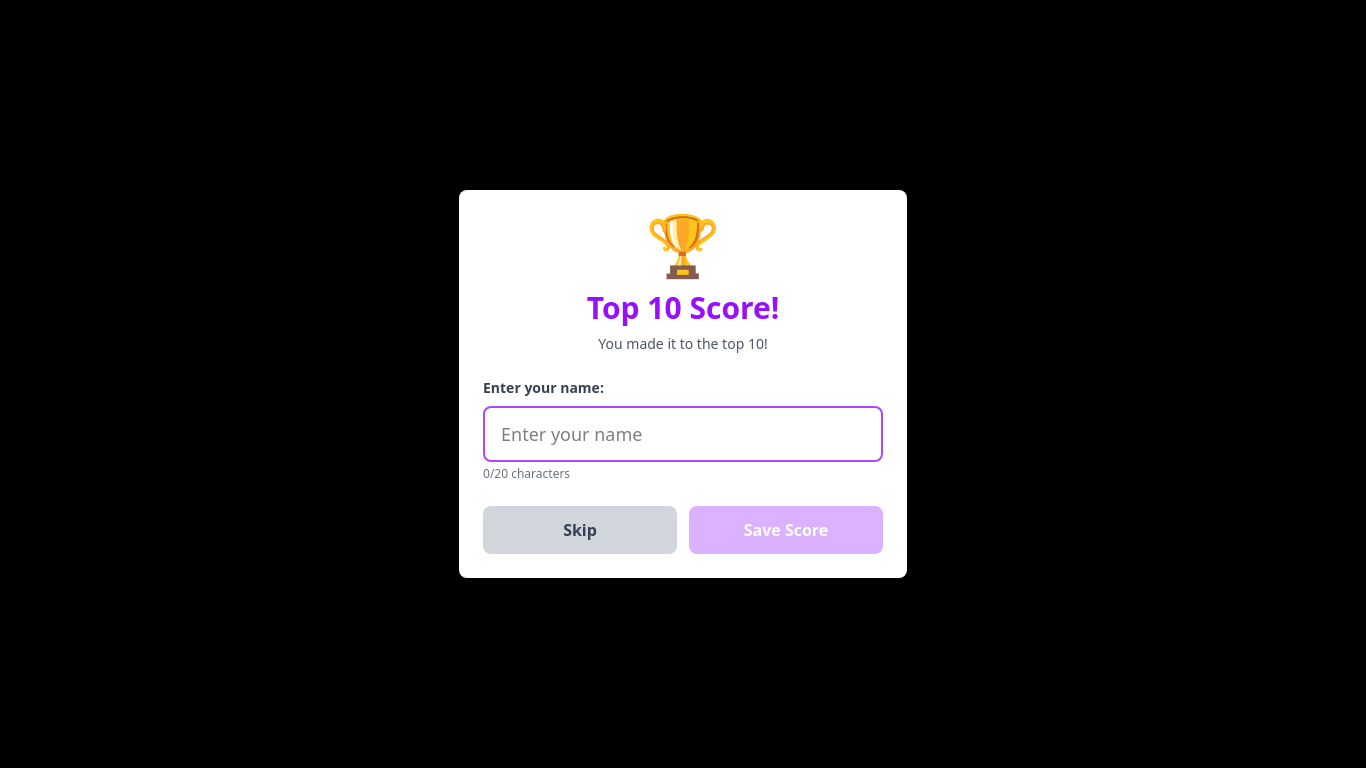
NameInputModal › enables Save Score button when input has text
In the field labelled "Enter your name:": [683, 434] box [483,406,883,462], type "John"
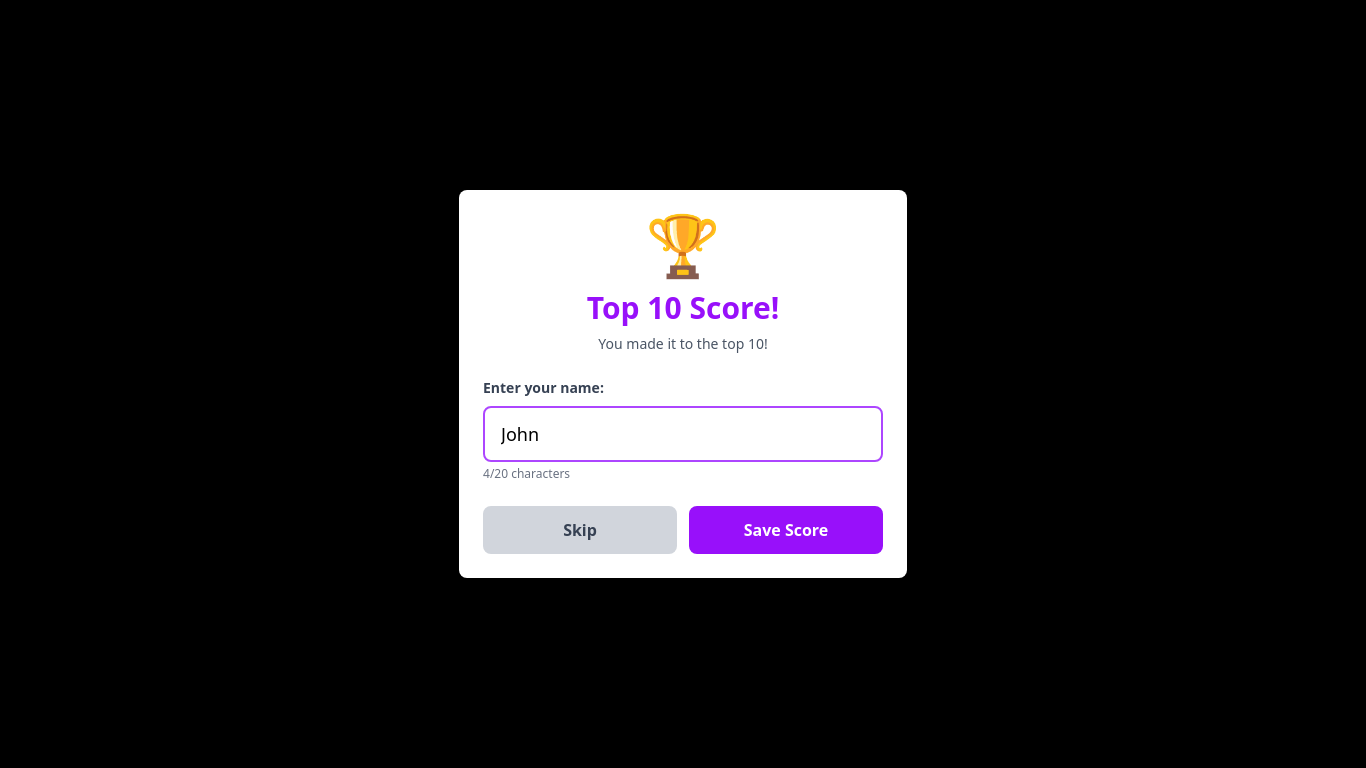
Expected: the button "Save Score" is enabled, [689,506,883,554]
